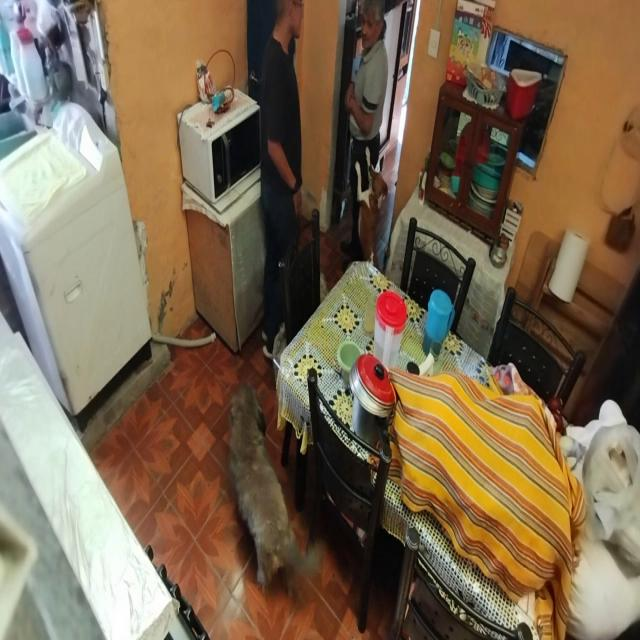adult: (255, 2, 307, 373), (337, 2, 391, 263)
